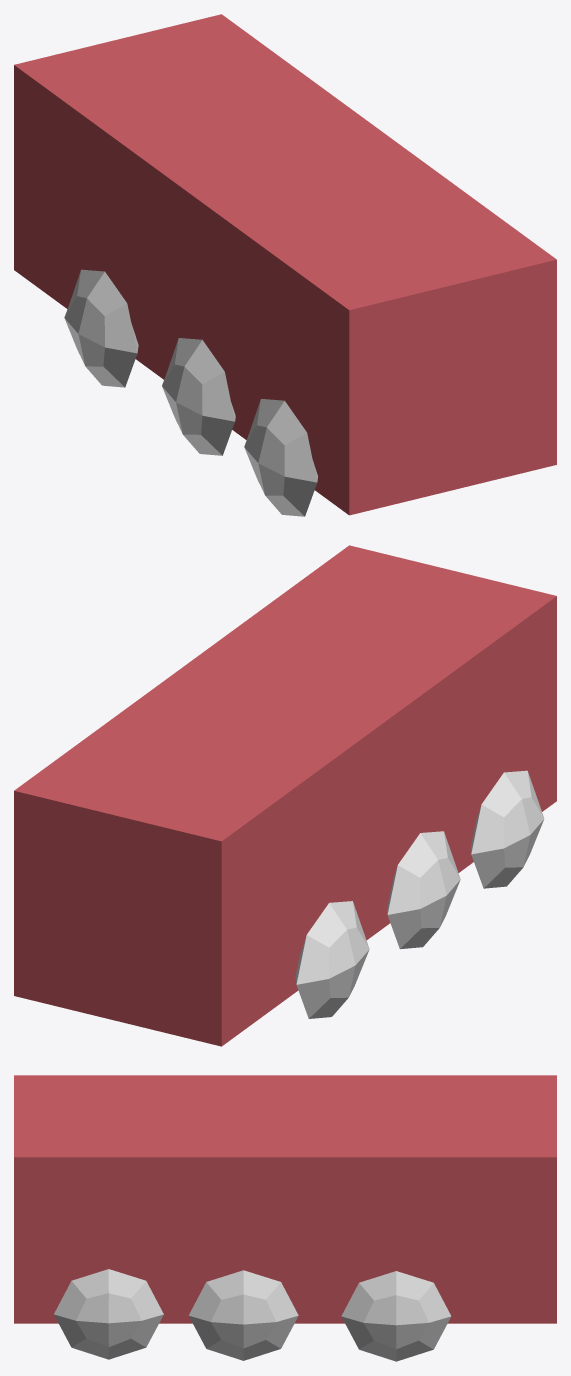
The model's file is train_cabin.fbx.
3 views of the same model, one above another, from view 1: azimuth 30°, elevation 25°; view 2: azimuth 150°, elevation 25°; view 3: azimuth 270°, elevation 25° (orthographic). The views are drawn at different scales.
Parts seen in each view (by area): view 1: Cube, Cube.006, Cube.008, Cube.007; view 2: Cube, Cube.006, Cube.008, Cube.007; view 3: Cube, Cube.004, Cube.005, Cube.009, Cube.013.
Part boxes in pixels (<box>): Cube: <box>14,14,556,515</box>; Cube.006: <box>64,269,138,387</box>; Cube.008: <box>244,399,317,516</box>; Cube.007: <box>162,338,235,455</box>; Cube: <box>14,545,556,1046</box>; Cube.006: <box>295,901,369,1018</box>; Cube.008: <box>470,770,544,888</box>; Cube.007: <box>387,831,460,949</box>; Cube: <box>14,1075,556,1323</box>; Cube.004: <box>188,1270,298,1360</box>; Cube.005: <box>341,1271,451,1361</box>; Cube.009: <box>54,1269,163,1359</box>; Cube.013: <box>71,1280,163,1354</box>.
Size of the model in its own units: 488 by 410 by 1014.
